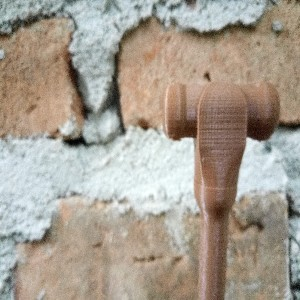palu: (164, 80, 281, 300)
